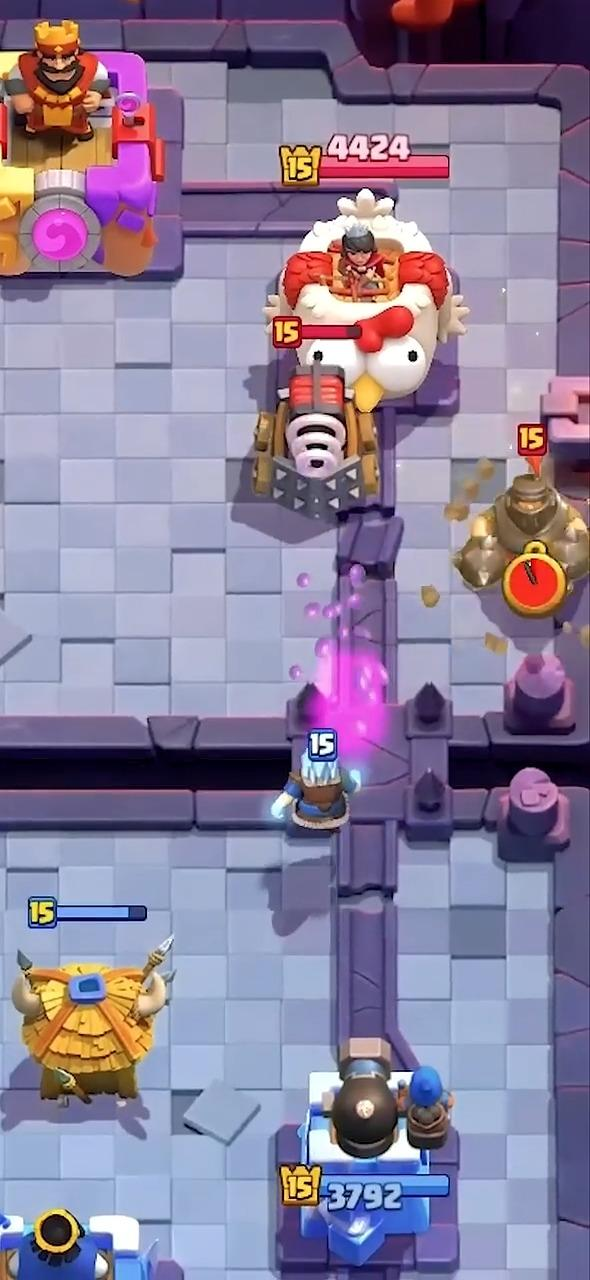goblin hut: (12, 939, 173, 1105)
ice wizard: (271, 731, 359, 830)
mega knight: (453, 471, 589, 593)
sparky: (252, 351, 377, 522)
